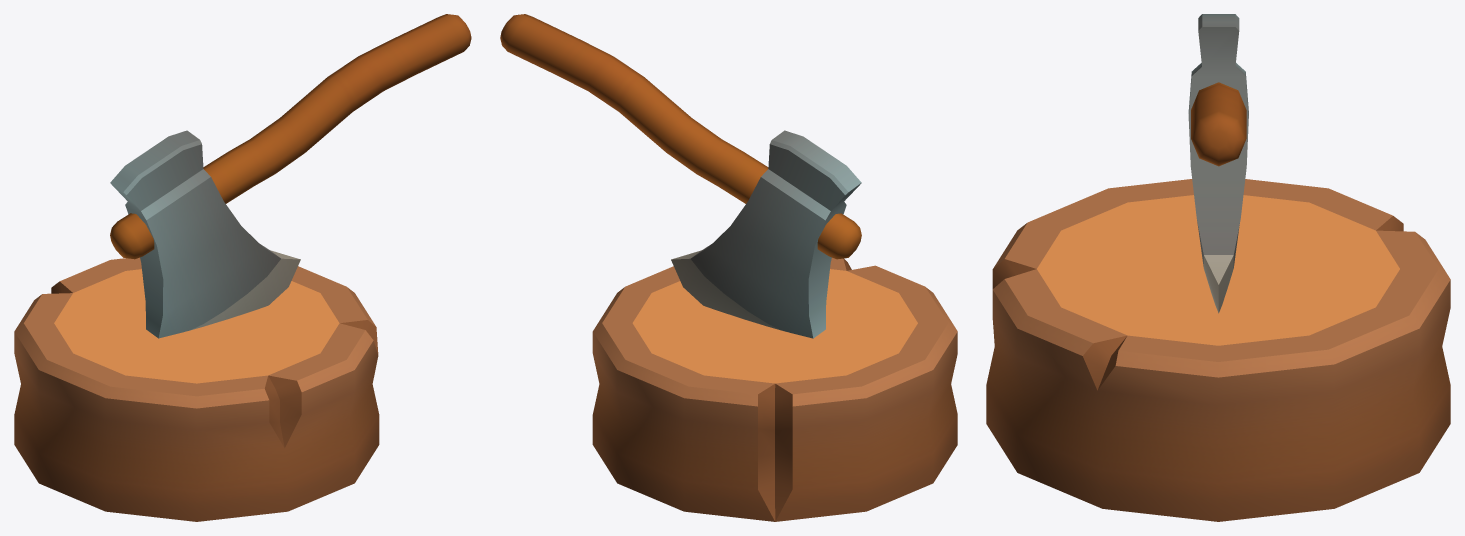
Rendered from Axe_Log.fbx.
3 renders of one model, left to right at view 1: azimuth 30°, elevation 25°; view 2: azimuth 150°, elevation 25°; view 3: azimuth 270°, elevation 25°, orthographic. The views are drawn at different scales.
Parts seen in each view (by area): view 1: Log, Axe; view 2: Log, Axe; view 3: Log, Axe.
Part boxes in pixels (left/top/right/bottom): Log: left=14, top=257, right=379, bottom=521; Axe: left=110, top=14, right=471, bottom=338; Log: left=592, top=257, right=957, bottom=521; Axe: left=500, top=14, right=861, bottom=338; Log: left=986, top=179, right=1450, bottom=521; Axe: left=1188, top=14, right=1248, bottom=313.
Size of the model in its own units: 141 by 115 by 103.
